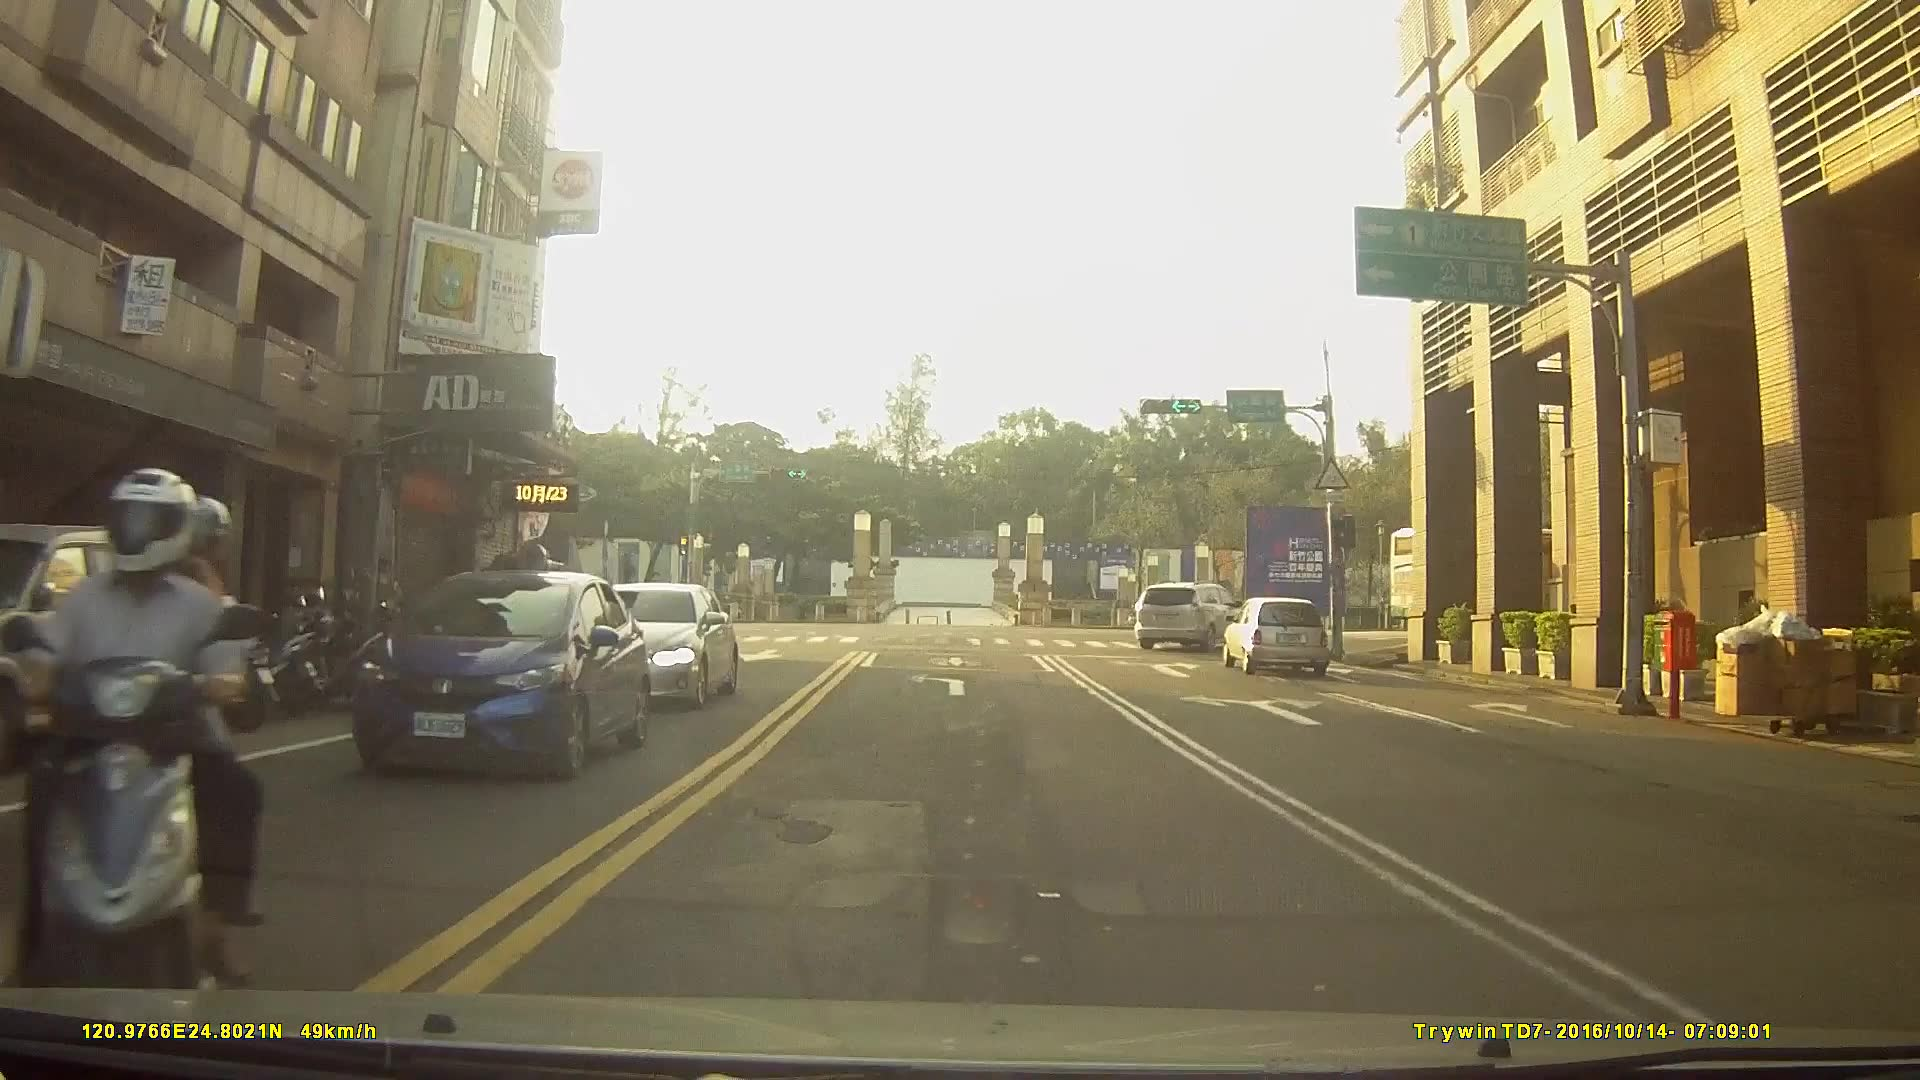rider: (1, 472, 268, 1033)
vehicle: (345, 567, 648, 781), (0, 528, 214, 770), (557, 580, 735, 709), (1220, 594, 1327, 672), (1136, 579, 1246, 647)
